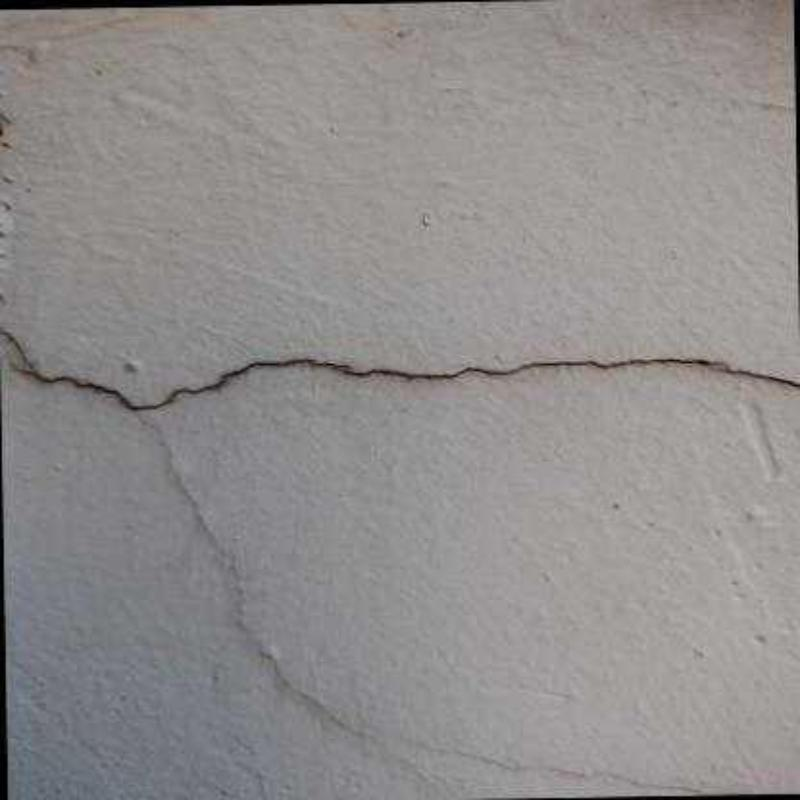crack: (135, 410, 465, 798), (0, 325, 798, 411), (421, 740, 704, 796)
